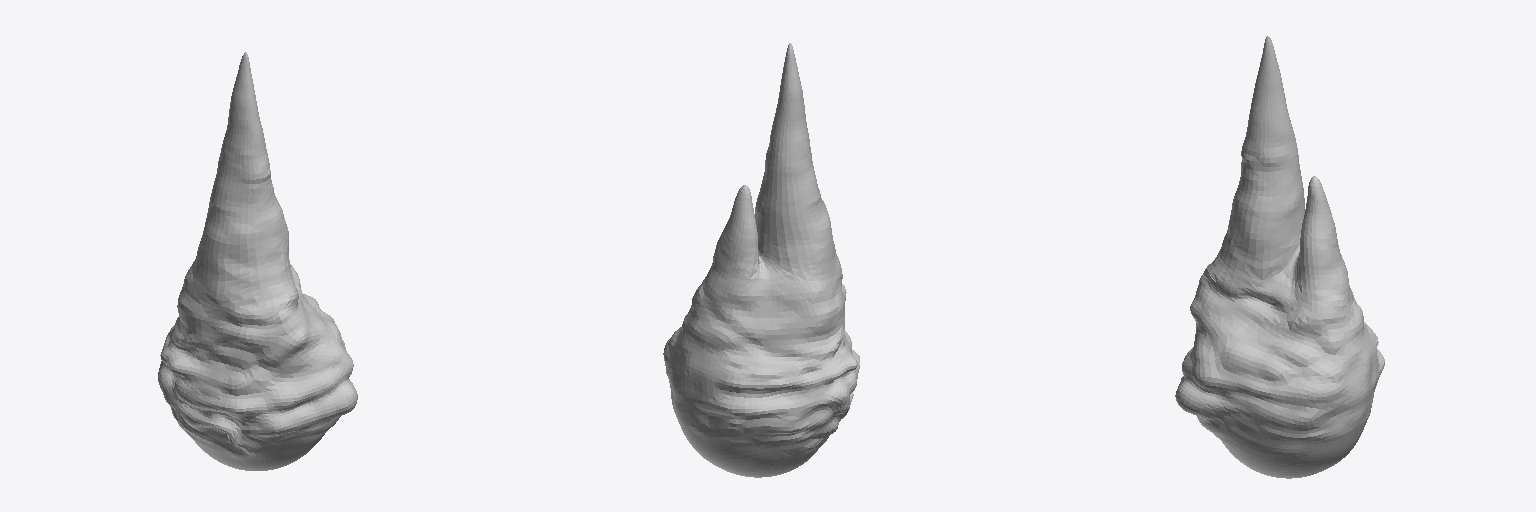
File: stalagmite2.OBJ
The picture shows the model from 3 angles: view 1: azimuth 30°, elevation 25°; view 2: azimuth 150°, elevation 25°; view 3: azimuth 270°, elevation 25°; orthographic projection.
Visible parts, largest first — view 1: Group1; view 2: Group1; view 3: Group1.
Boxes of the visible parts, <box> form: Group1: <box>158,52,357,470</box>; Group1: <box>663,43,859,477</box>; Group1: <box>1175,36,1384,478</box>.
Bounding box in the file's own units: 2.58 × 5.99 × 2.67.